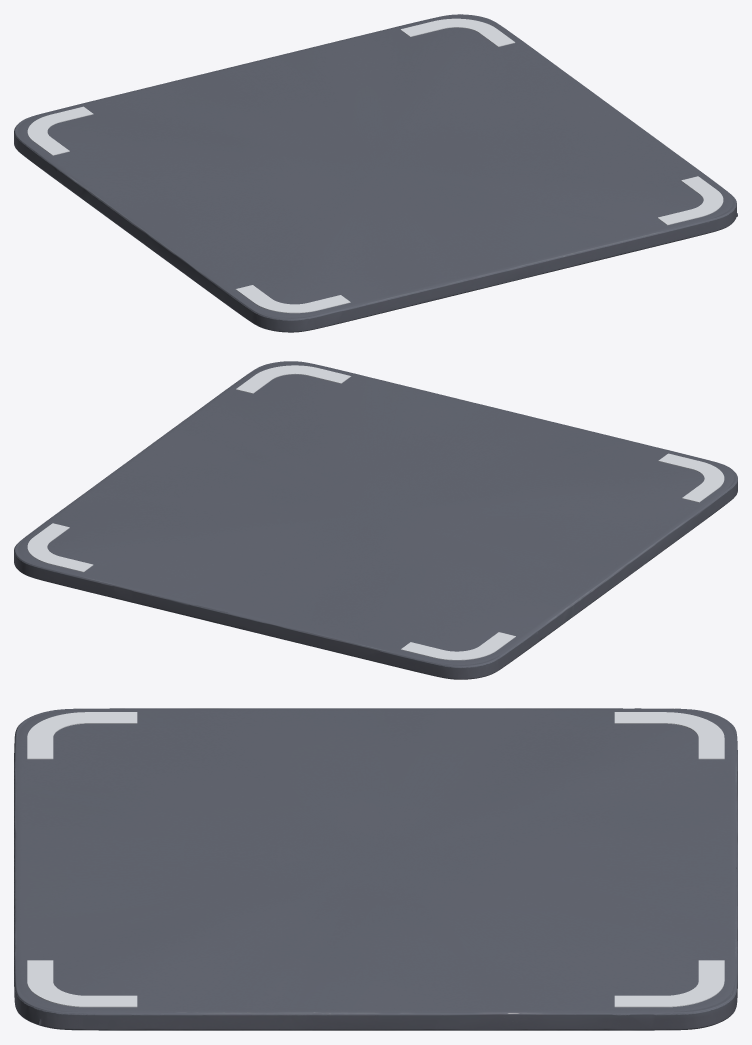
Rendered from purchase_pad_v5.glb.
The picture shows the model from 3 angles, top to bottom: view 1: azimuth 30°, elevation 25°; view 2: azimuth 150°, elevation 25°; view 3: azimuth 270°, elevation 25°; orthographic projection. The views are drawn at different scales.
Parts seen in each view (by area): view 1: PurchaseDeck_Surface, Mesh_0, PurchaseCorner_SW, PurchaseCorner_NE, PurchaseCorner_SE, PurchaseCorner_NW; view 2: PurchaseDeck_Surface, Mesh_0, PurchaseCorner_SE, PurchaseCorner_NW, PurchaseCorner_NE, PurchaseCorner_SW; view 3: PurchaseDeck_Surface, Mesh_0, PurchaseCorner_SE, PurchaseCorner_NE, PurchaseCorner_SW, PurchaseCorner_NW.
Boxes of the visible parts, x1,y1,x2,y2 form: PurchaseDeck_Surface: (18, 15, 732, 317); Mesh_0: (14, 14, 737, 332); PurchaseCorner_SW: (235, 285, 350, 313); PurchaseCorner_NE: (400, 18, 515, 46); PurchaseCorner_SE: (658, 176, 723, 225); PurchaseCorner_NW: (27, 106, 93, 155); PurchaseDeck_Surface: (18, 362, 733, 664); Mesh_0: (14, 361, 737, 679); PurchaseCorner_SE: (236, 365, 351, 393); PurchaseCorner_NW: (400, 632, 515, 660); PurchaseCorner_NE: (27, 523, 93, 572); PurchaseCorner_SW: (658, 453, 724, 502); PurchaseDeck_Surface: (16, 708, 735, 1012); Mesh_0: (14, 708, 737, 1030); PurchaseCorner_SE: (27, 960, 137, 1007); PurchaseCorner_NE: (614, 960, 724, 1007); PurchaseCorner_SW: (27, 712, 137, 759); PurchaseCorner_NW: (614, 712, 724, 759).
Bounding box in the file's own units: 1.9 × 0.0561 × 1.9.
3 materials, 2 textured.
